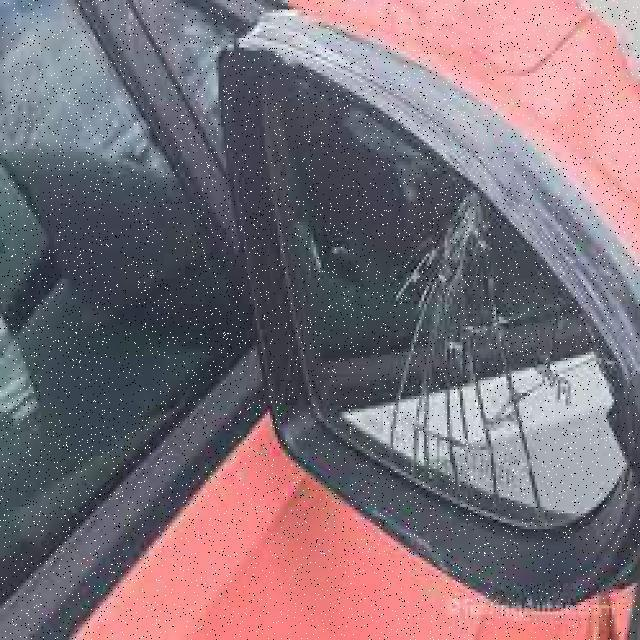Sidemirror-Damage: (152, 3, 638, 612)
